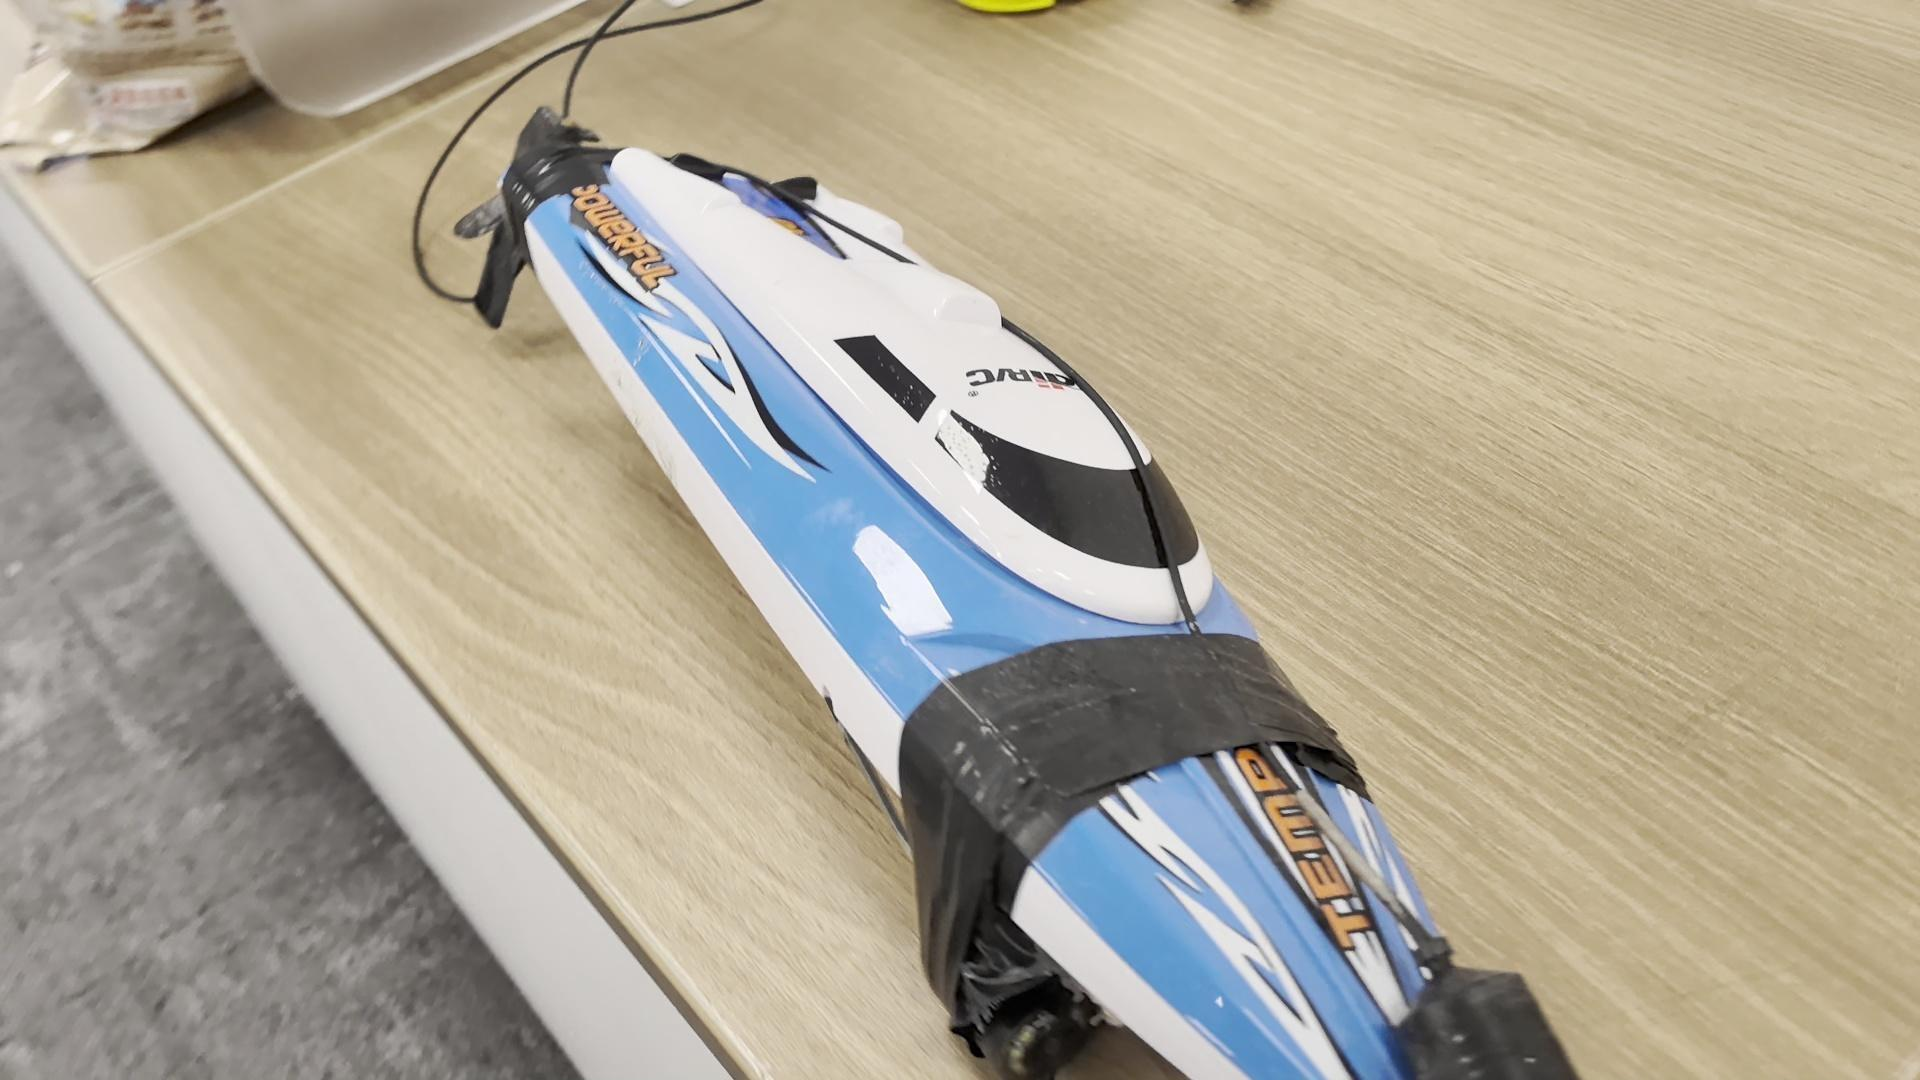Boat: (459, 105, 1569, 1073)
